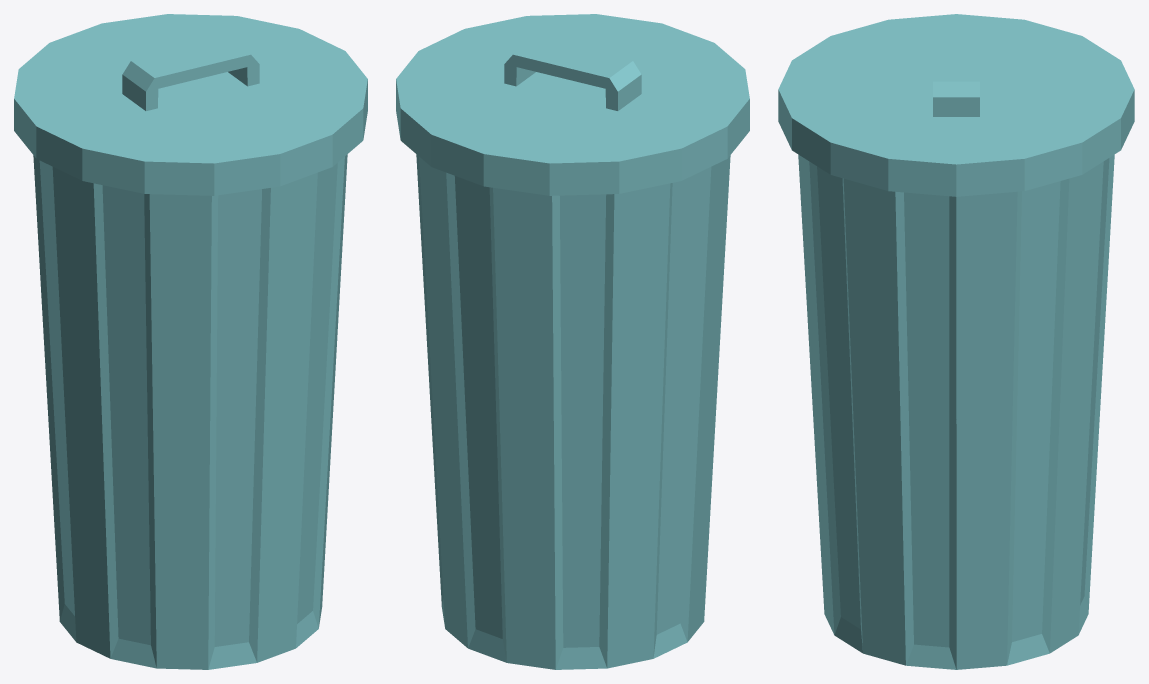
The model's file is trashCan00.fbx.
The picture shows the model from 3 angles, left to right: view 1: azimuth 30°, elevation 25°; view 2: azimuth 150°, elevation 25°; view 3: azimuth 270°, elevation 25°; orthographic projection.
Parts seen in each view (by area): view 1: TrashCan, trashCanLid; view 2: TrashCan, trashCanLid; view 3: TrashCan, trashCanLid.
Boxes of the visible parts, x1,y1,x2,y2 form: TrashCan: [33, 154, 347, 669]; trashCanLid: [14, 14, 367, 195]; TrashCan: [416, 154, 730, 669]; trashCanLid: [396, 14, 749, 195]; TrashCan: [798, 154, 1114, 669]; trashCanLid: [778, 14, 1134, 196].
Bounding box in the file's own units: 76.43 × 132 × 76.43.
